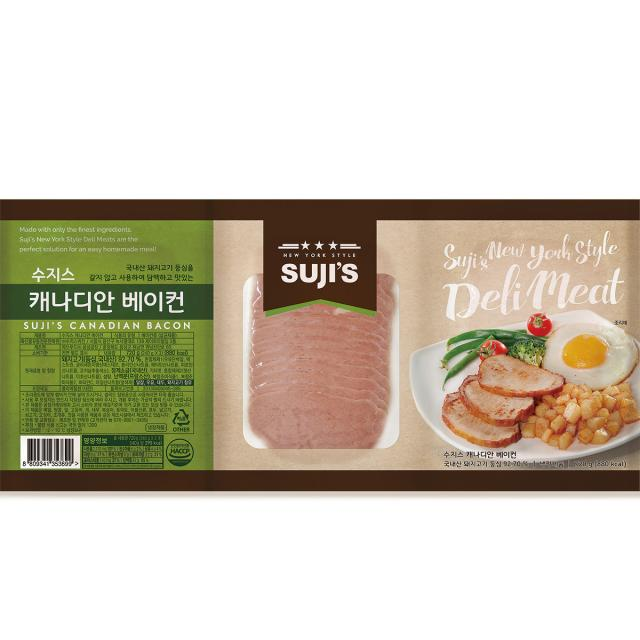bacon: (5, 201, 640, 495)
